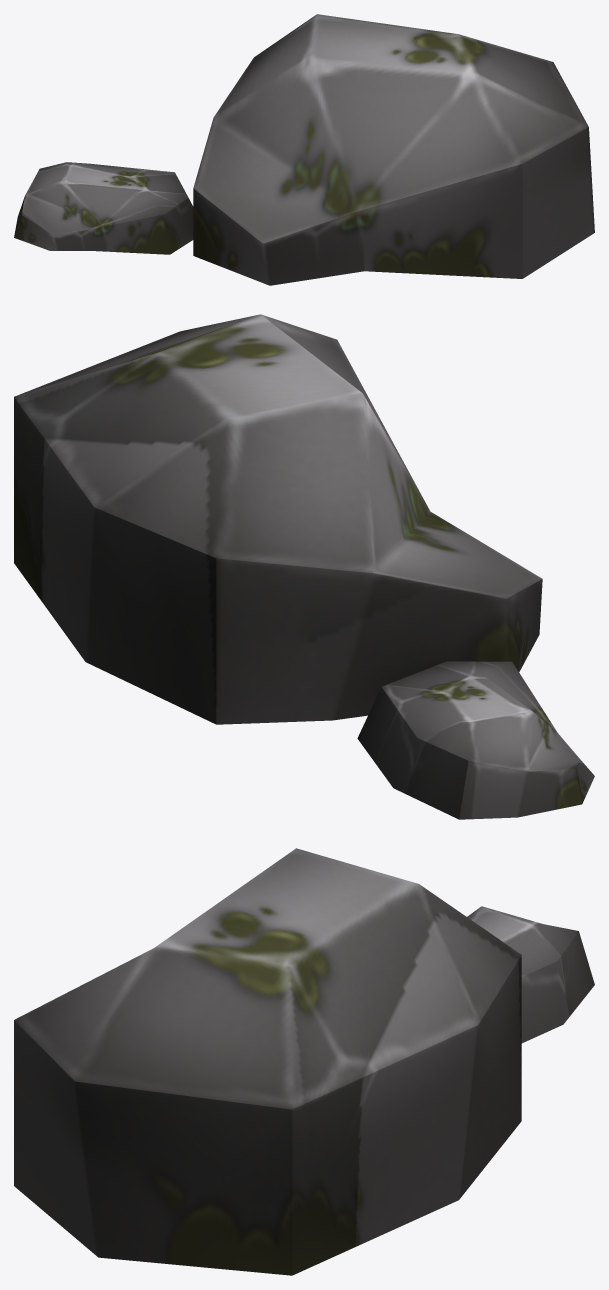
Rendered from stone01.fbx.
The picture shows the model from 3 angles, top to bottom: view 1: azimuth 30°, elevation 25°; view 2: azimuth 150°, elevation 25°; view 3: azimuth 270°, elevation 25°; orthographic projection. The views are drawn at different scales.
Visible parts, largest first — view 1: stone01; view 2: stone01; view 3: stone01.
Boxes of the visible parts, x1=… form: stone01: x1=14, y1=14, x2=594, y2=285; stone01: x1=14, y1=314, x2=594, y2=819; stone01: x1=14, y1=848, x2=594, y2=1275.
Size of the model in its own units: 37.78 by 13.77 by 28.27.
1 material, 1 textured.
